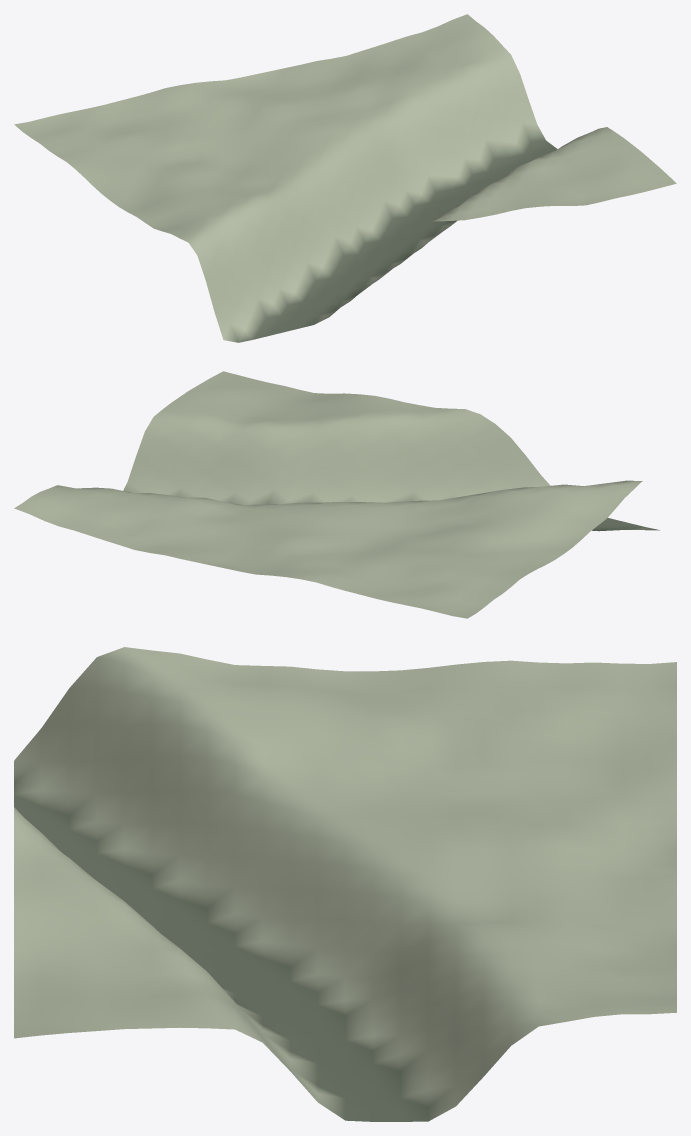
3 views of the same model, one above another, from view 1: azimuth 30°, elevation 25°; view 2: azimuth 150°, elevation 25°; view 3: azimuth 270°, elevation 25° (orthographic). The views are drawn at different scales.
Visible parts, largest first — view 1: world-ground/60-120; view 2: world-ground/60-120; view 3: world-ground/60-120.
Boxes of the visible parts, left/top/right/bottom form: world-ground/60-120: left=14, top=14, right=676, bottom=342; world-ground/60-120: left=14, top=371, right=659, bottom=618; world-ground/60-120: left=14, top=647, right=676, bottom=1121.
Size of the model in its own units: 37.5 by 6.23 by 30.
